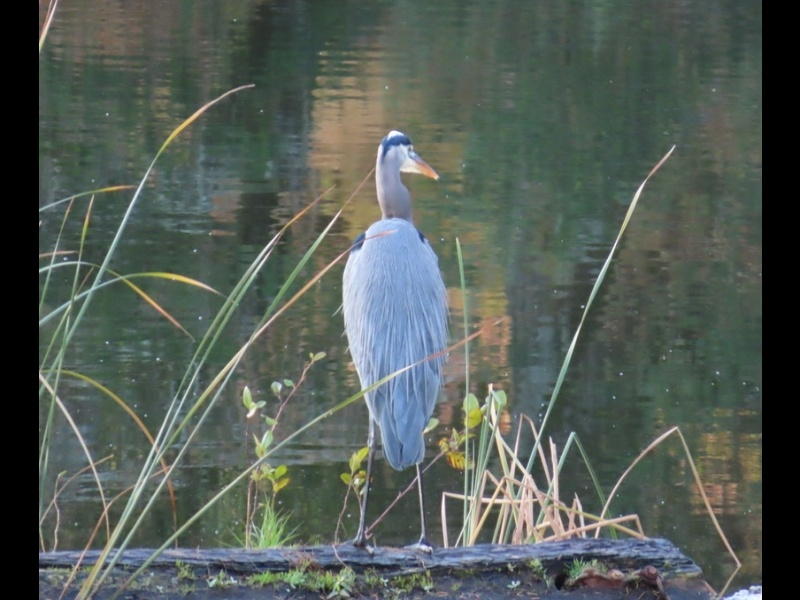heron: (331, 120, 453, 561)
